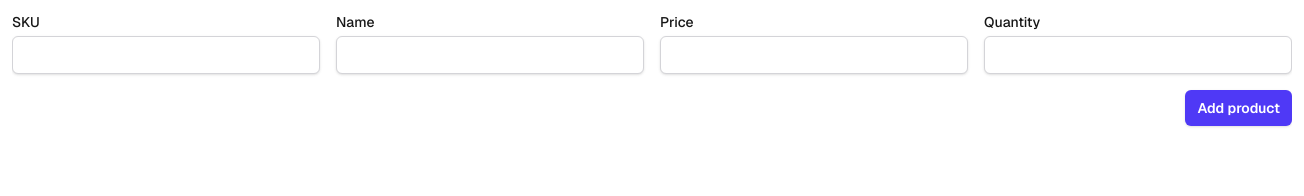
Test: ProductForm › rejects a negative price
Type "MS-002" into the field labelled "SKU" at coordinates (166, 55), box [12, 36, 320, 74]
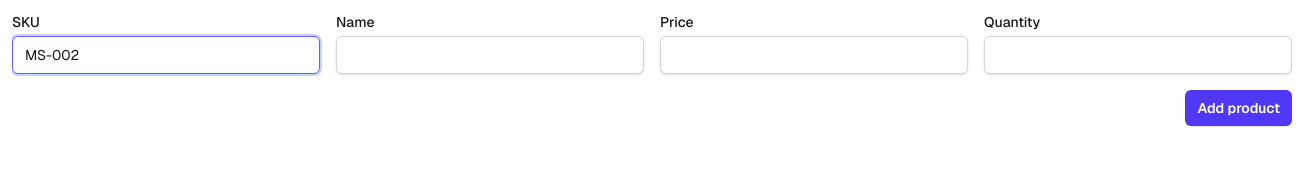
Type "Mouse" into the field labelled "Name" at coordinates (490, 55), box [336, 36, 644, 74]
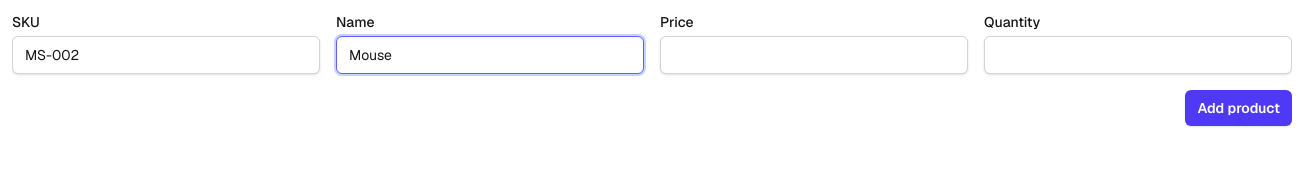
Type "-5" into the number field labelled "Price" at coordinates (814, 55), box [660, 36, 968, 74]
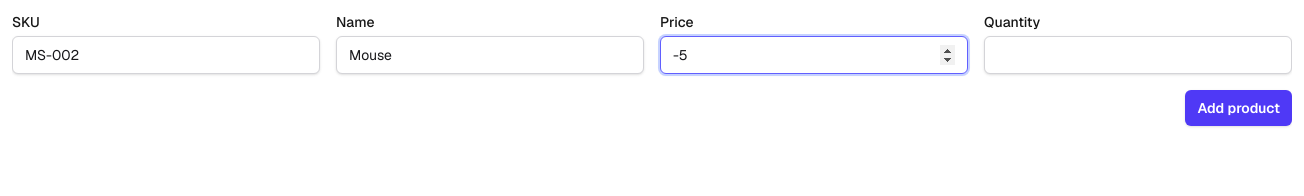
Type "10" into the number field labelled "Quantity" at coordinates (1138, 55), box [984, 36, 1292, 74]
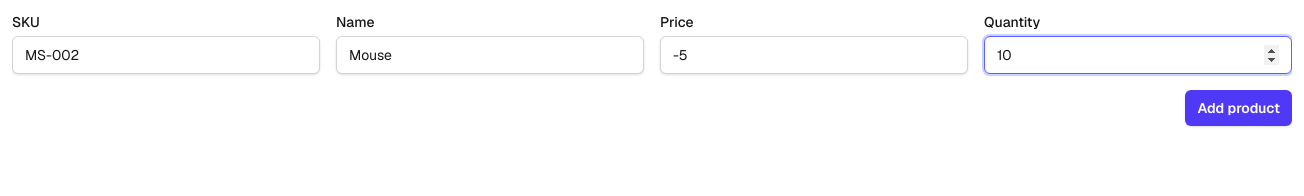
Click the button "Add product" at coordinates (1239, 108), box [1186, 90, 1292, 126]
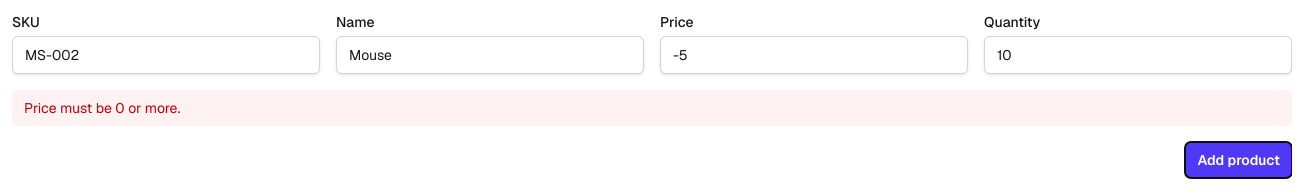
Result: the message shows "Price must be 0 or more" at [24, 99, 180, 117]
